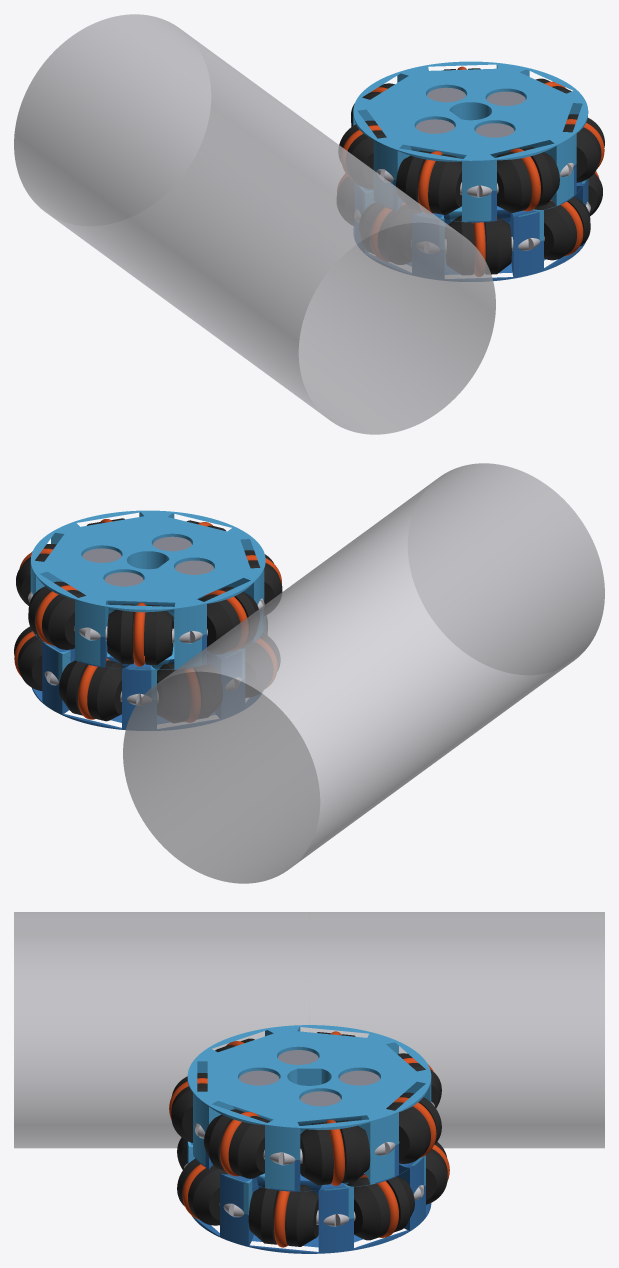
File: omni-wheel.glb
3 views of the same model, one above another, from view 1: azimuth 30°, elevation 25°; view 2: azimuth 150°, elevation 25°; view 3: azimuth 270°, elevation 25° (orthographic). The views are drawn at different scales.
Parts seen in each view (by area): view 1: pipe, hub_B, hub_A, roller_r1_3, roller_r2_2, roller_r2_3, roller_r1_2, roller_r1_4, roller_r2_1, roller_r2_4, roller_r1_1, oring_r2_2 (+2 smaller); view 2: pipe, hub_B, hub_A, roller_r2_0, roller_r1_0, roller_r1_1, roller_r2_1, roller_r2_6, roller_r1_2, roller_r1_6, roller_r2_2, roller_r2_5 (+2 smaller); view 3: pipe, hub_B, hub_A, roller_r1_5, roller_r2_5, roller_r1_6, roller_r2_4, roller_r2_6, roller_r1_4, roller_r2_3, roller_r1_0, oring_r2_5 (+8 smaller).
Boxes of the visible parts, x1,y1,x2,y2 form: pipe: (14, 14, 495, 434); hub_B: (353, 61, 588, 249); hub_A: (354, 164, 587, 281); roller_r1_3: (445, 215, 511, 274); roller_r2_2: (396, 150, 461, 214); roller_r2_3: (496, 147, 559, 212); roller_r1_2: (359, 203, 421, 264); roller_r1_4: (534, 197, 590, 260); roller_r2_1: (339, 120, 386, 188); roller_r2_4: (563, 114, 604, 182); roller_r1_1: (337, 177, 353, 225); oring_r2_2: (418, 151, 442, 213); pipe: (123, 463, 604, 883); hub_B: (30, 510, 265, 699); hub_A: (32, 599, 264, 730); roller_r2_0: (107, 604, 173, 664); roller_r1_0: (59, 660, 124, 721); roller_r1_1: (157, 663, 222, 722); roller_r2_1: (198, 587, 259, 653); roller_r2_6: (28, 581, 85, 649); roller_r1_2: (241, 633, 279, 697); roller_r1_6: (14, 626, 44, 690); roller_r2_2: (244, 550, 282, 615); roller_r2_5: (16, 544, 56, 605); pipe: (14, 912, 604, 1148); hub_B: (187, 1025, 431, 1218); hub_A: (187, 1142, 431, 1253); roller_r1_5: (248, 1184, 318, 1246); roller_r2_5: (300, 1120, 370, 1185); roller_r1_6: (347, 1176, 414, 1240); roller_r2_4: (204, 1109, 269, 1178); roller_r2_6: (386, 1092, 441, 1163); roller_r1_4: (177, 1158, 228, 1225); roller_r2_3: (171, 1073, 207, 1142); roller_r1_0: (424, 1141, 447, 1204); oring_r2_5: (325, 1119, 344, 1185).
Size of the model in its own units: 69.78 by 31.99 by 80.
